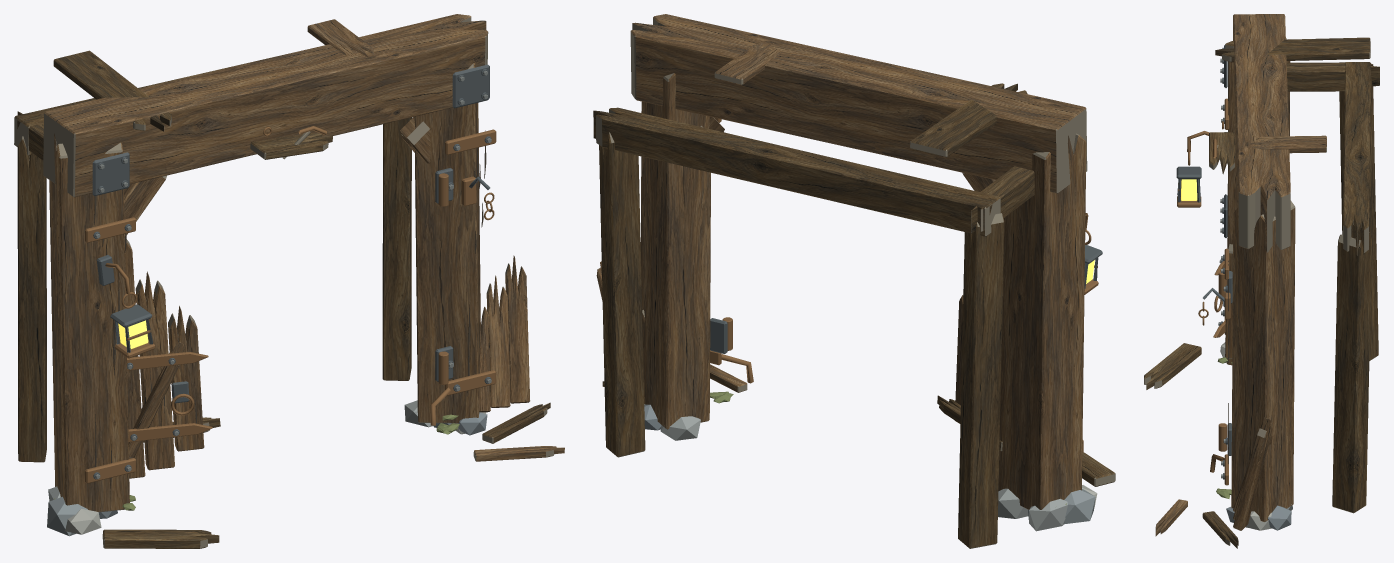
Rendered from RuinedMineEntrance.glb.
The picture shows the model from 3 angles, left to right: view 1: azimuth 30°, elevation 25°; view 2: azimuth 150°, elevation 25°; view 3: azimuth 270°, elevation 25°; orthographic projection. The views are drawn at different scales.
Visible parts, largest first — view 1: Ruined_Frame_LOD0, Broken_Leaf_LOD0, Fallen_Timbers_LOD0; view 2: Ruined_Frame_LOD0, Fallen_Timbers_LOD0, Broken_Leaf_LOD0; view 3: Ruined_Frame_LOD0, Fallen_Timbers_LOD0, Broken_Leaf_LOD0.
Part boxes in pixels (box(x1,y1,x2,y2)): Ruined_Frame_LOD0: box(14, 14, 496, 536); Broken_Leaf_LOD0: box(124, 238, 220, 478); Fallen_Timbers_LOD0: box(102, 255, 564, 548); Ruined_Frame_LOD0: box(593, 14, 1102, 548); Fallen_Timbers_LOD0: box(596, 261, 1115, 486); Broken_Leaf_LOD0: box(937, 295, 1002, 451); Ruined_Frame_LOD0: box(1176, 14, 1379, 530); Fallen_Timbers_LOD0: box(1144, 343, 1272, 548); Broken_Leaf_LOD0: box(1213, 232, 1232, 358).
Bounding box in the file's own units: 5.05 × 3.96 × 2.45.
Materials: 14 (3 with a texture image).
